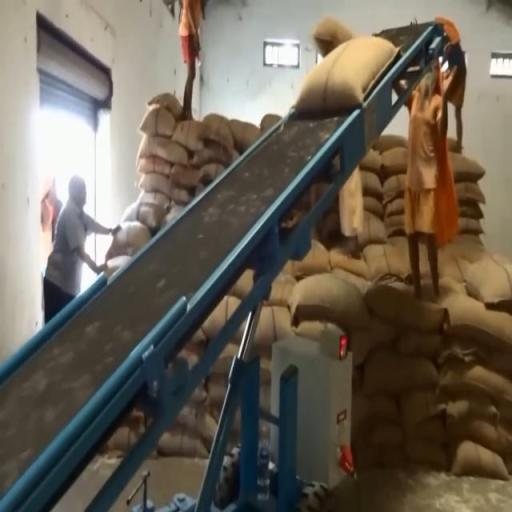c-belt-sack-count: (295, 37, 398, 116)
